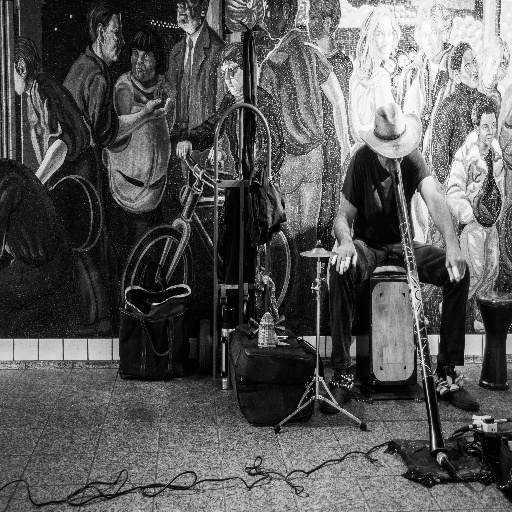hand: (443, 244, 466, 283), (331, 242, 358, 275), (144, 97, 171, 120), (338, 146, 349, 183), (174, 138, 192, 159), (208, 147, 225, 162)
